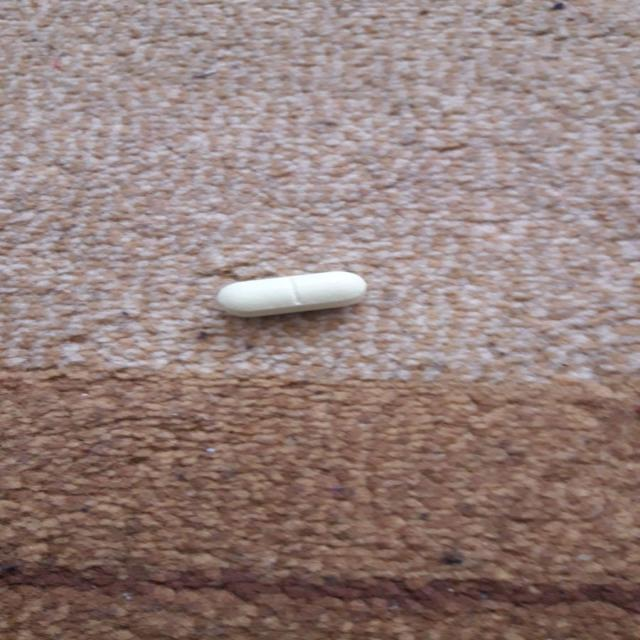pills: (200, 258, 400, 328)
